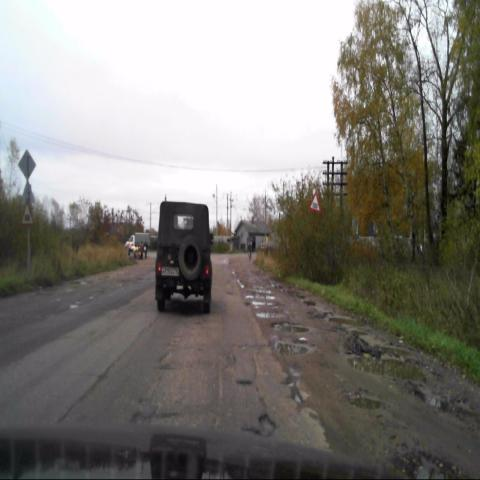1_1: (309, 192, 321, 212)
